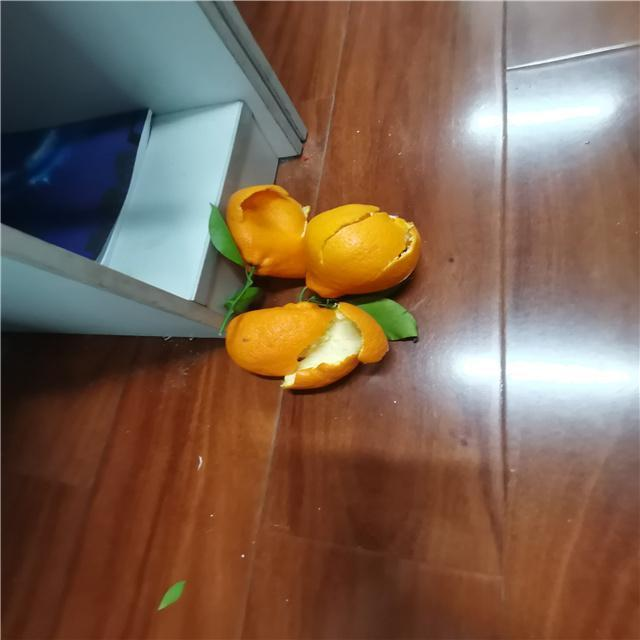orange peel: (226, 298, 390, 396), (302, 202, 420, 294), (224, 185, 322, 280)
